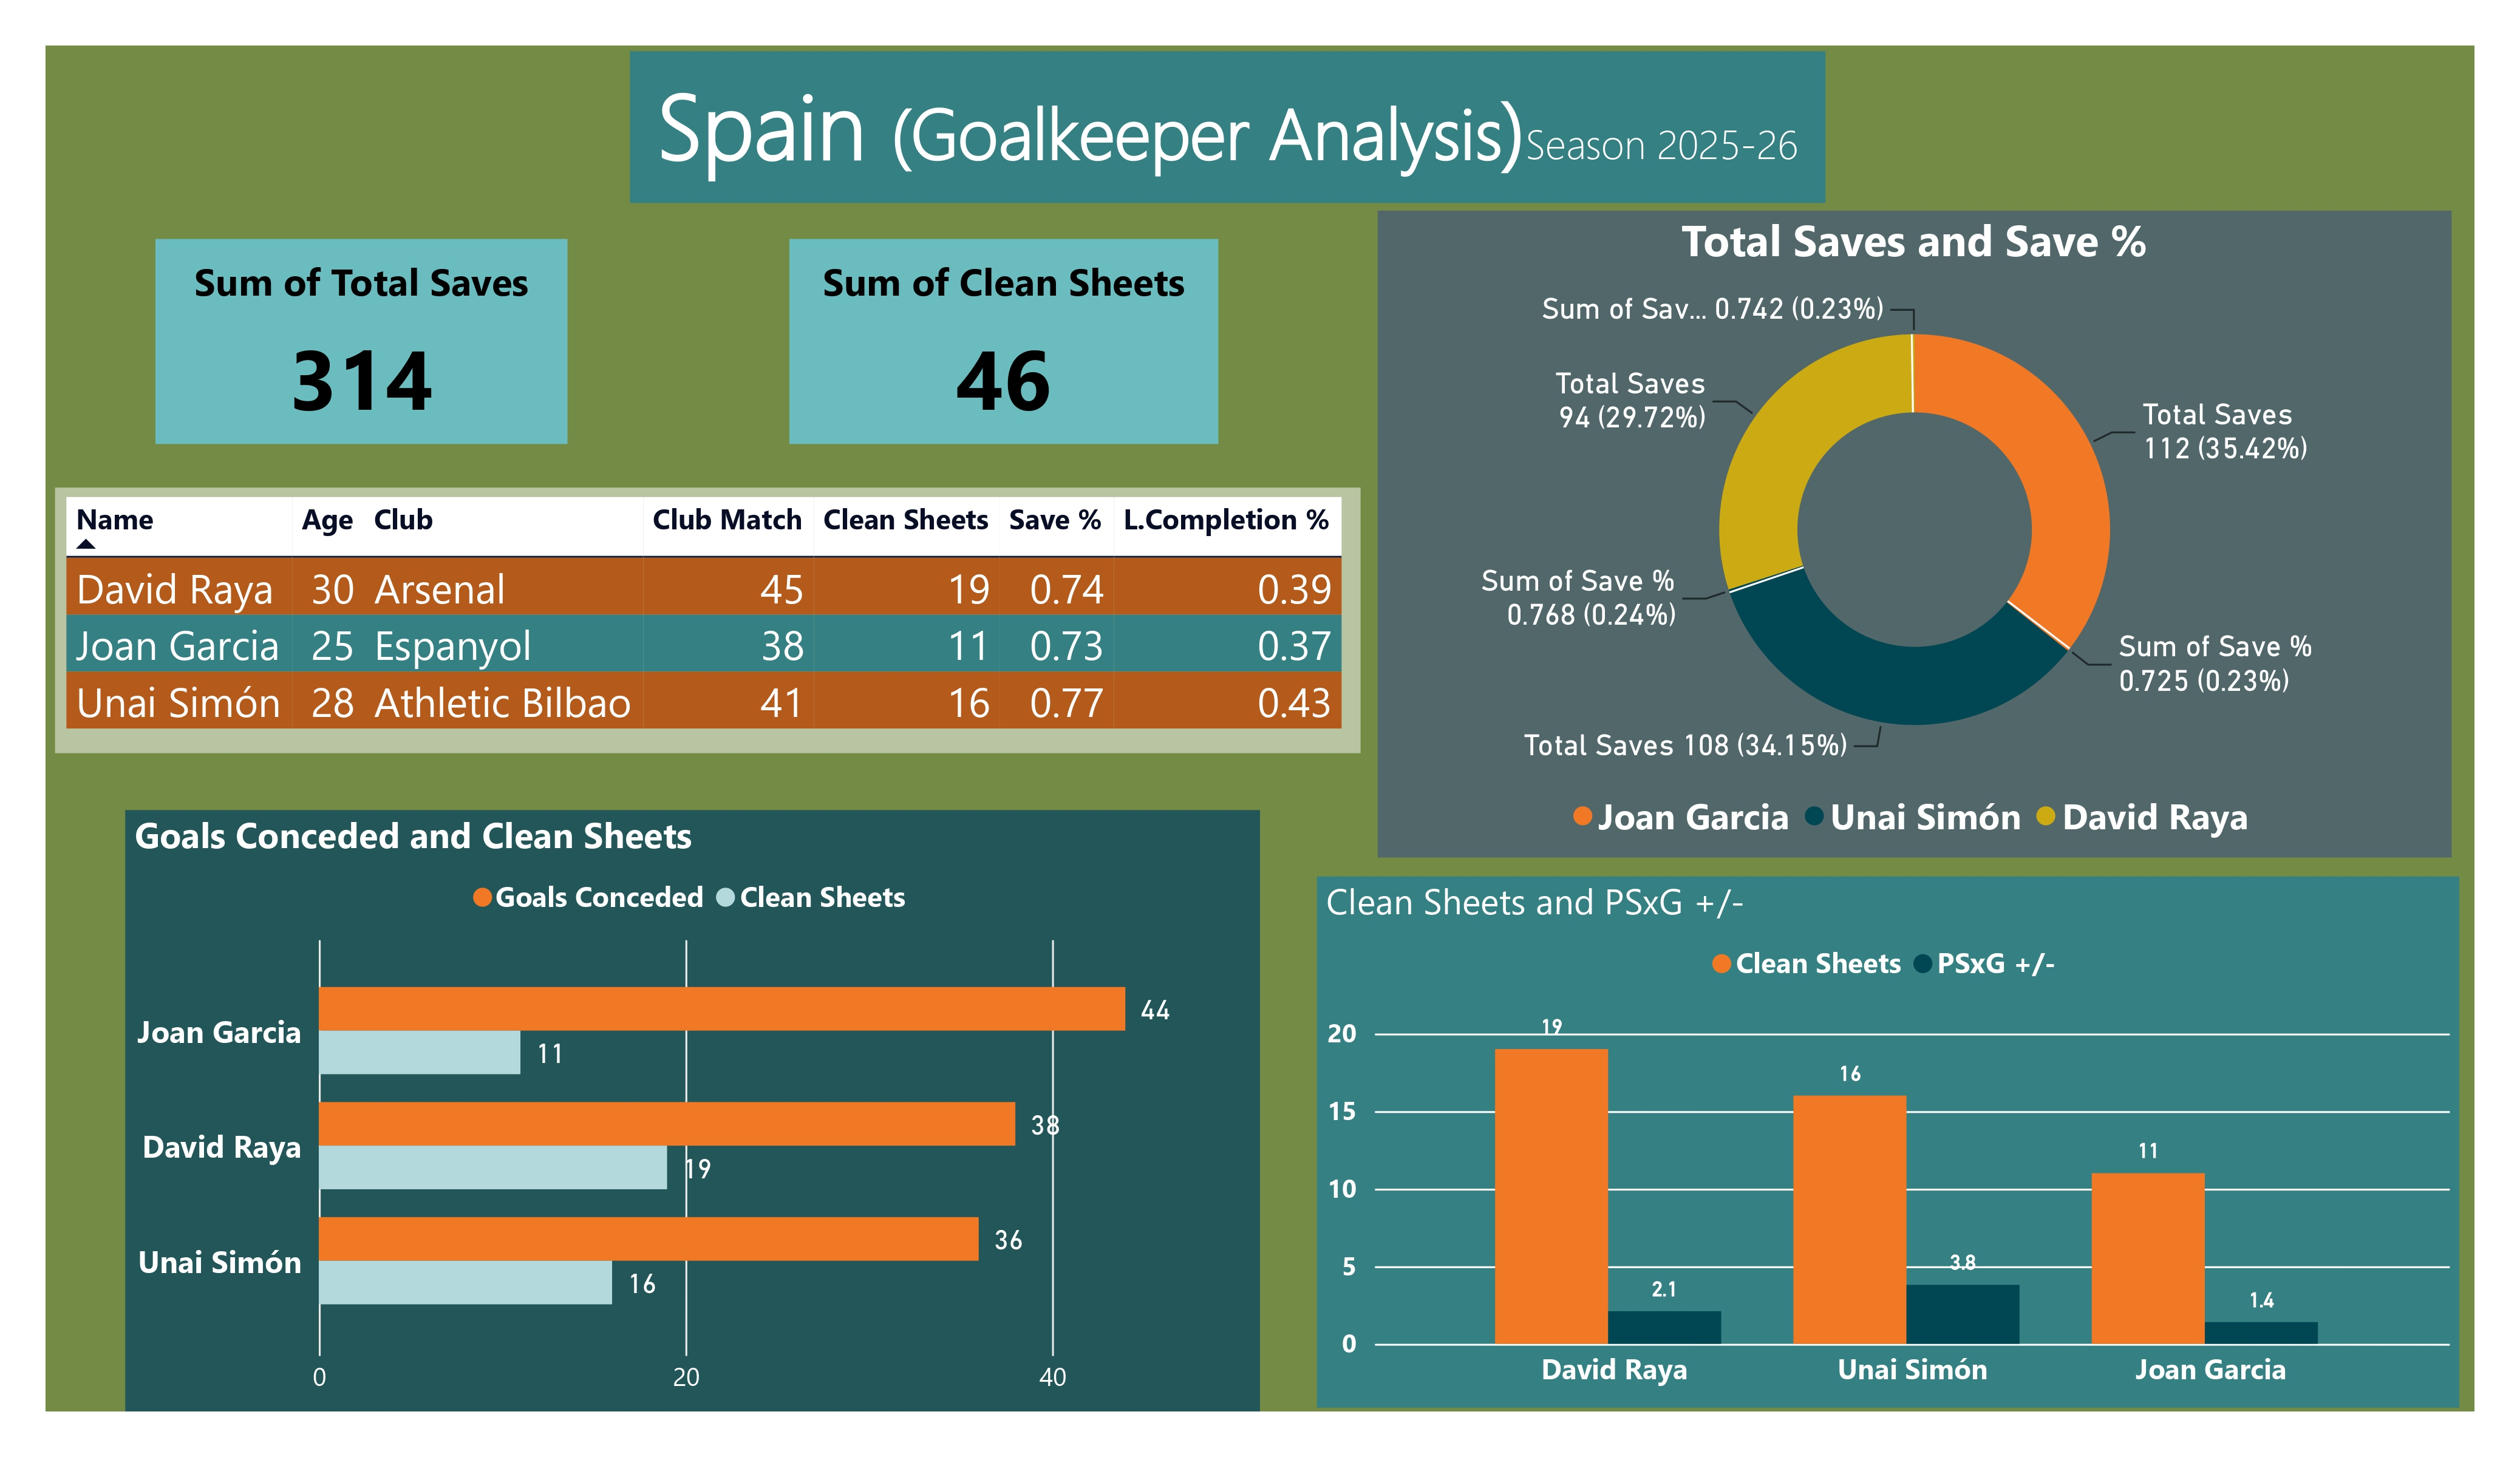

What the dashboard file says about the page in this screenshot:
{"tool":"powerbi","page":{"name":"Goalkeeper","canvas":[1280,720],"ordinal":3},"visuals":[{"type":"slicer","fields":{"Values":["Sheet1.Position"]},"box":[995.9,522.4,246.5,181.2],"z":0},{"type":"textbox","box":[308.3,3.3,630,80],"z":1000},{"type":"donutChart","title":"Total Saves and Save % ","fields":{"Category":["Sheet1.Name"],"Y":["Sum(Sheet1.Total Saves)","Sum(Sheet1.Save %)"]},"box":[701.7,86.7,566.7,341.7],"z":2000},{"type":"cardVisual","fields":{"Data":["Sum(Sheet1.Clean Sheets)"]},"box":[386.7,96.7,236.7,118.3],"z":3000},{"type":"cardVisual","fields":{"Data":["Sum(Sheet1.Total Saves)"]},"box":[53.3,96.7,226.7,118.3],"z":4000},{"type":"tableEx","fields":{"Values":["Sheet1.Name","Sum(Sheet1.Age)","Sheet1.Club","Sum(Sheet1.Club Match)","Sum(Sheet1.Clean Sheets)","Sum(Sheet1.Save %)","Sum(Sheet1.Launch Completion %)"]},"box":[5,233.3,688.3,140],"z":5000},{"type":"clusteredBarChart","title":"Goals Conceded and Clean Sheets","fields":{"Category":["Sheet1.Name"],"Y":["Sum(Sheet1.Goals Conceded)","Sum(Sheet1.Clean Sheets)"]},"box":[41.7,403.3,598.3,316.7],"z":6000},{"type":"clusteredColumnChart","title":"Clean Sheets and PSxG +/-","fields":{"Category":["Sheet1.Name"],"Y":["Sum(Sheet1.Clean Sheets)","Sum(Sheet1.PSxG +/-)"]},"box":[670,438.3,601.7,280],"z":7000}]}

Visuals, with their boxes on the page's 1280x720 design canvas (x1, y1, x2, y2). These are canvas units, not pixel positions in the 2520x1457 screenshot, which may show the page scaled, cropped or inside an application window:
slicer - Sheet1.Position: [left=996, top=522, right=1242, bottom=704]
textbox: [left=308, top=3, right=938, bottom=83]
"Total Saves and Save % " donutChart: [left=702, top=87, right=1268, bottom=428]
cardVisual - Sum(Sheet1.Clean Sheets): [left=387, top=97, right=623, bottom=215]
cardVisual - Sum(Sheet1.Total Saves): [left=53, top=97, right=280, bottom=215]
tableEx - Sheet1.Name x Sum(Sheet1.Age): [left=5, top=233, right=693, bottom=373]
"Goals Conceded and Clean Sheets" clusteredBarChart: [left=42, top=403, right=640, bottom=720]
"Clean Sheets and PSxG +/-" clusteredColumnChart: [left=670, top=438, right=1272, bottom=718]
